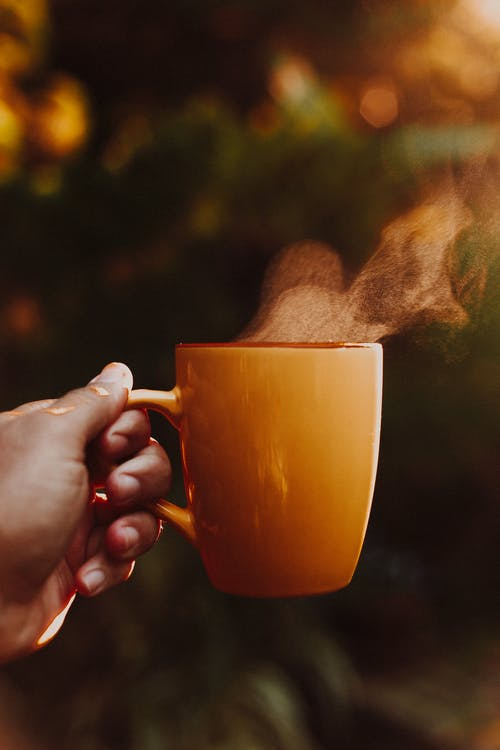cup: (169, 337, 391, 605)
